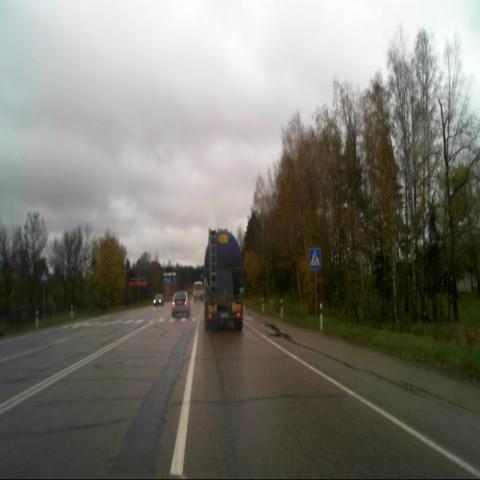5_19_1: (310, 247, 322, 270)
